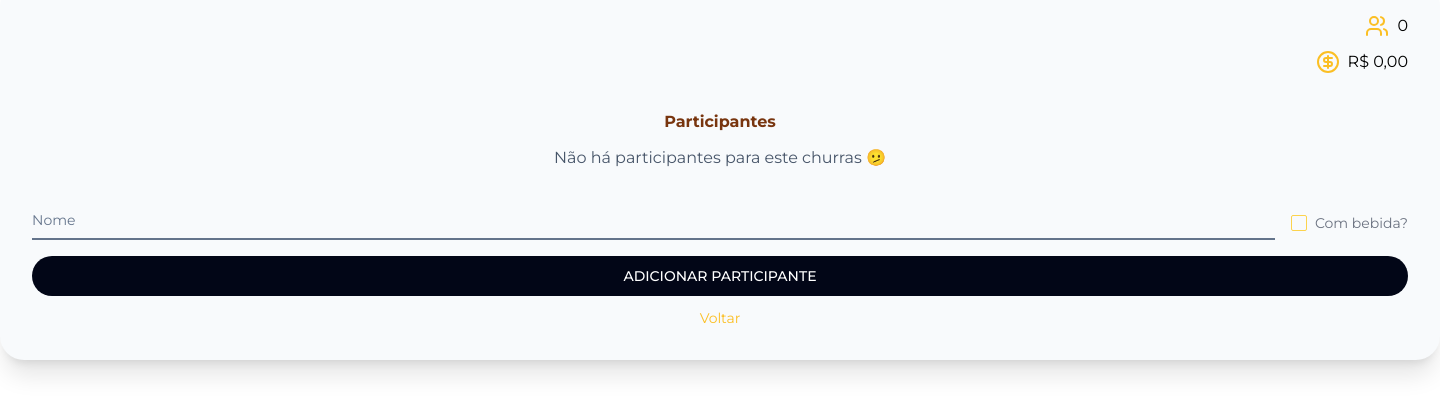
Test: <BarbecueDetailsPage /> › should click create participant correctly in Barbecue Details Page
The width and height of the screenshot is (1440, 413).
Submit the form from the button, box x1=32 y1=256 x2=1408 y2=296
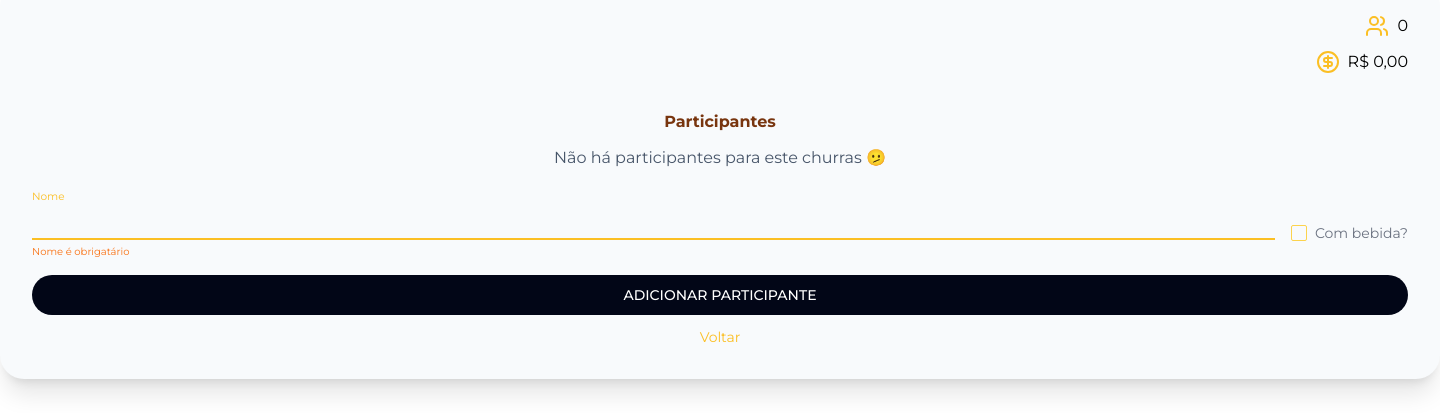
Now the text "Nome é obrigatário" is shown, box x1=32 y1=245 x2=129 y2=258
Type "John Doe" into the field labelled "Nome" at x=653, y=219, box x1=32 y1=198 x2=1275 y2=240
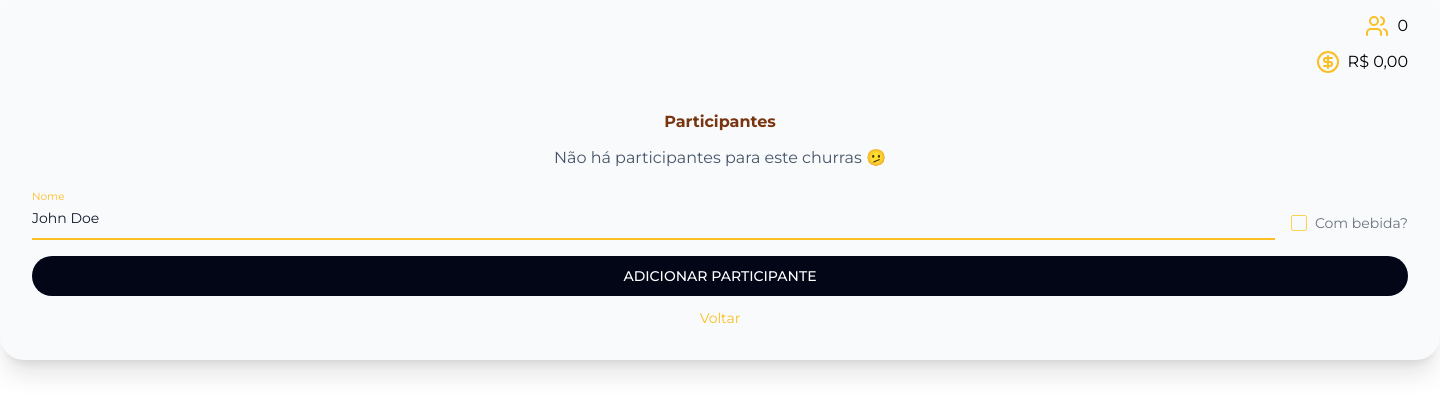
Now the message "Nome é obrigatário" is gone
